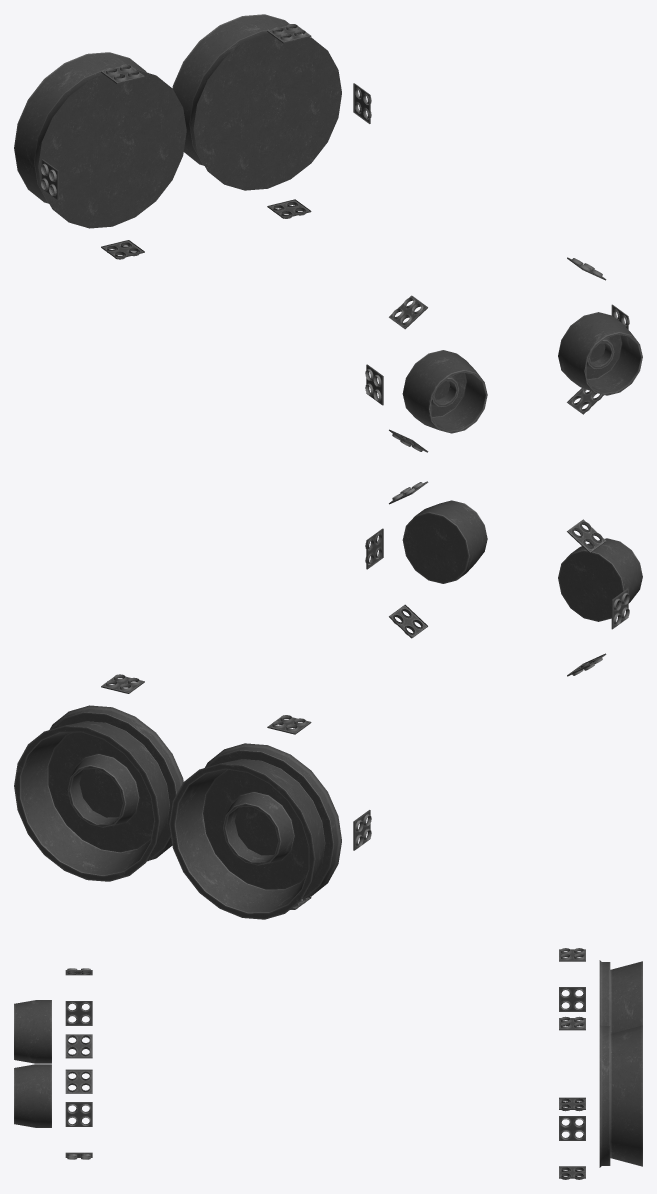
The model's file is Wicher_engines.fbx.
3 renders of one model, top to bottom at view 1: azimuth 30°, elevation 25°; view 2: azimuth 150°, elevation 25°; view 3: azimuth 270°, elevation 25°, orthographic. The views are drawn at different scales.
Parts seen in each view (by area): view 1: Engines_LOD0; view 2: Engines_LOD0; view 3: Engines_LOD0.
Part boxes in pixels (x1=…): Engines_LOD0: x1=14, y1=14, x2=642, y2=452; Engines_LOD0: x1=14, y1=481, x2=642, y2=919; Engines_LOD0: x1=14, y1=948, x2=642, y2=1179.
Bounding box in the file's own units: 286 × 156 × 580.
